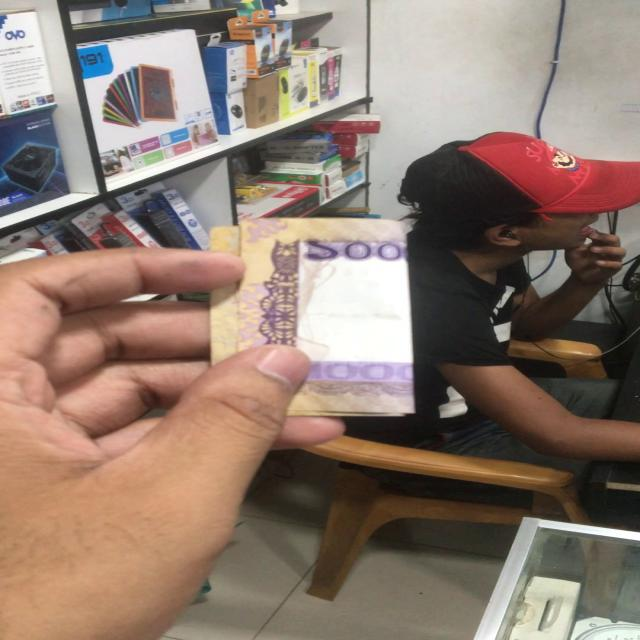Taka: (212, 220, 413, 425)
